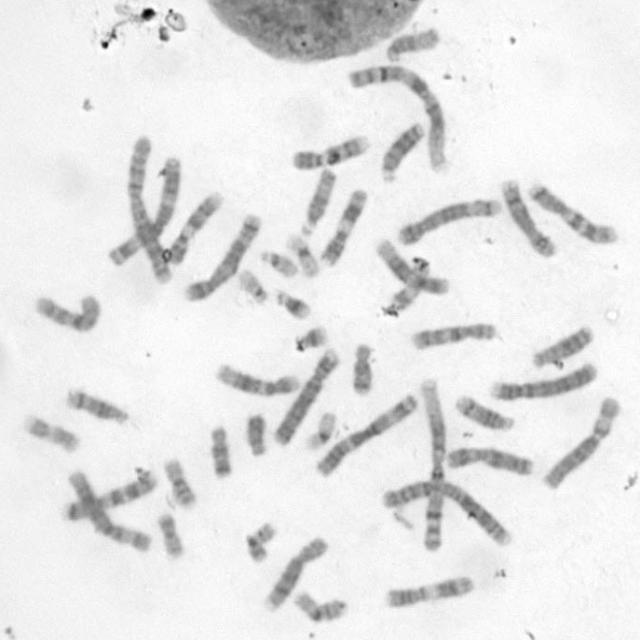A1: (343, 60, 452, 177), (416, 371, 448, 553)
A2: (378, 475, 514, 548), (121, 131, 175, 289)
A3: (311, 388, 419, 479), (104, 151, 184, 268)
B4: (268, 343, 341, 448), (484, 357, 599, 403)
B5: (180, 208, 264, 304), (393, 194, 502, 247)
C10: (30, 287, 103, 336), (406, 318, 498, 352)
C11: (317, 184, 369, 268), (379, 571, 477, 610)
C12: (372, 234, 450, 296), (212, 359, 301, 398)
C6: (538, 391, 624, 492), (63, 466, 155, 554)
C7: (524, 178, 620, 246), (59, 463, 160, 522)
C8: (259, 531, 330, 614), (497, 174, 558, 260)
C9: (160, 187, 225, 266), (288, 130, 372, 172)
D13: (528, 320, 595, 369), (376, 119, 426, 182)
D14: (62, 384, 132, 428), (451, 391, 516, 432)
D15: (297, 163, 338, 237), (381, 23, 442, 63)
E16: (290, 586, 350, 624), (158, 454, 198, 511)
E17: (19, 408, 82, 456), (388, 255, 429, 311)
E18: (205, 421, 235, 481), (346, 338, 374, 396)
F19: (282, 230, 322, 279), (302, 408, 338, 452)
F20: (154, 507, 186, 561), (242, 519, 278, 567)
G21: (273, 287, 313, 321), (290, 322, 330, 353)
G22: (256, 247, 299, 280), (235, 266, 269, 306)
X: (442, 441, 536, 478)
Y: (242, 410, 270, 457)
